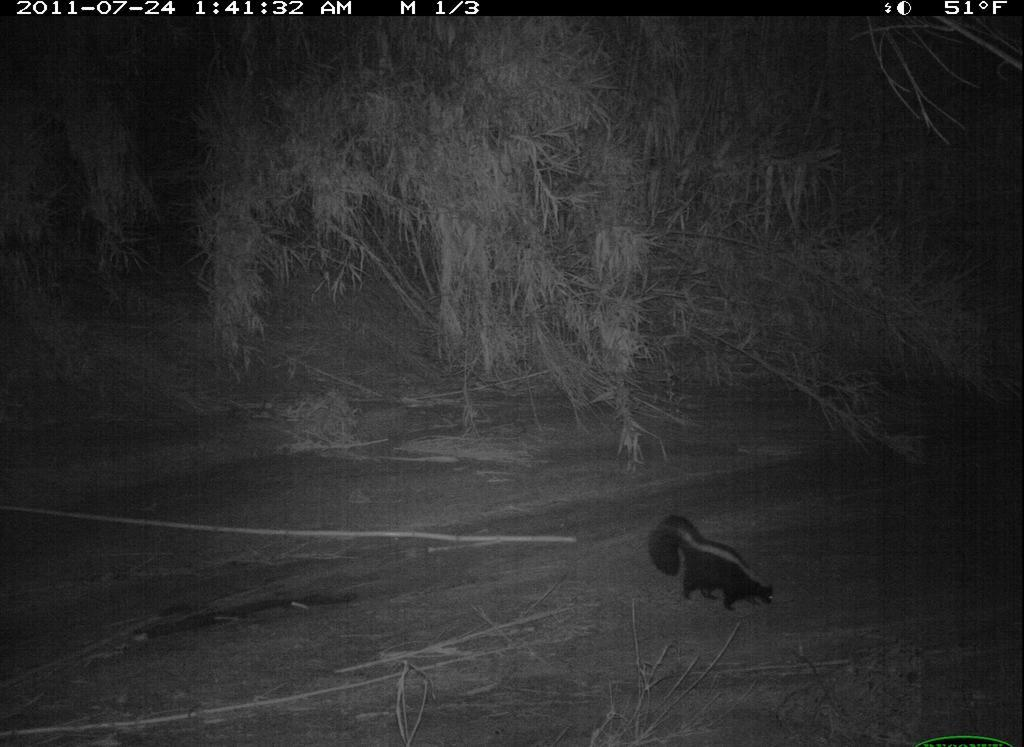skunk: (639, 500, 785, 623)
